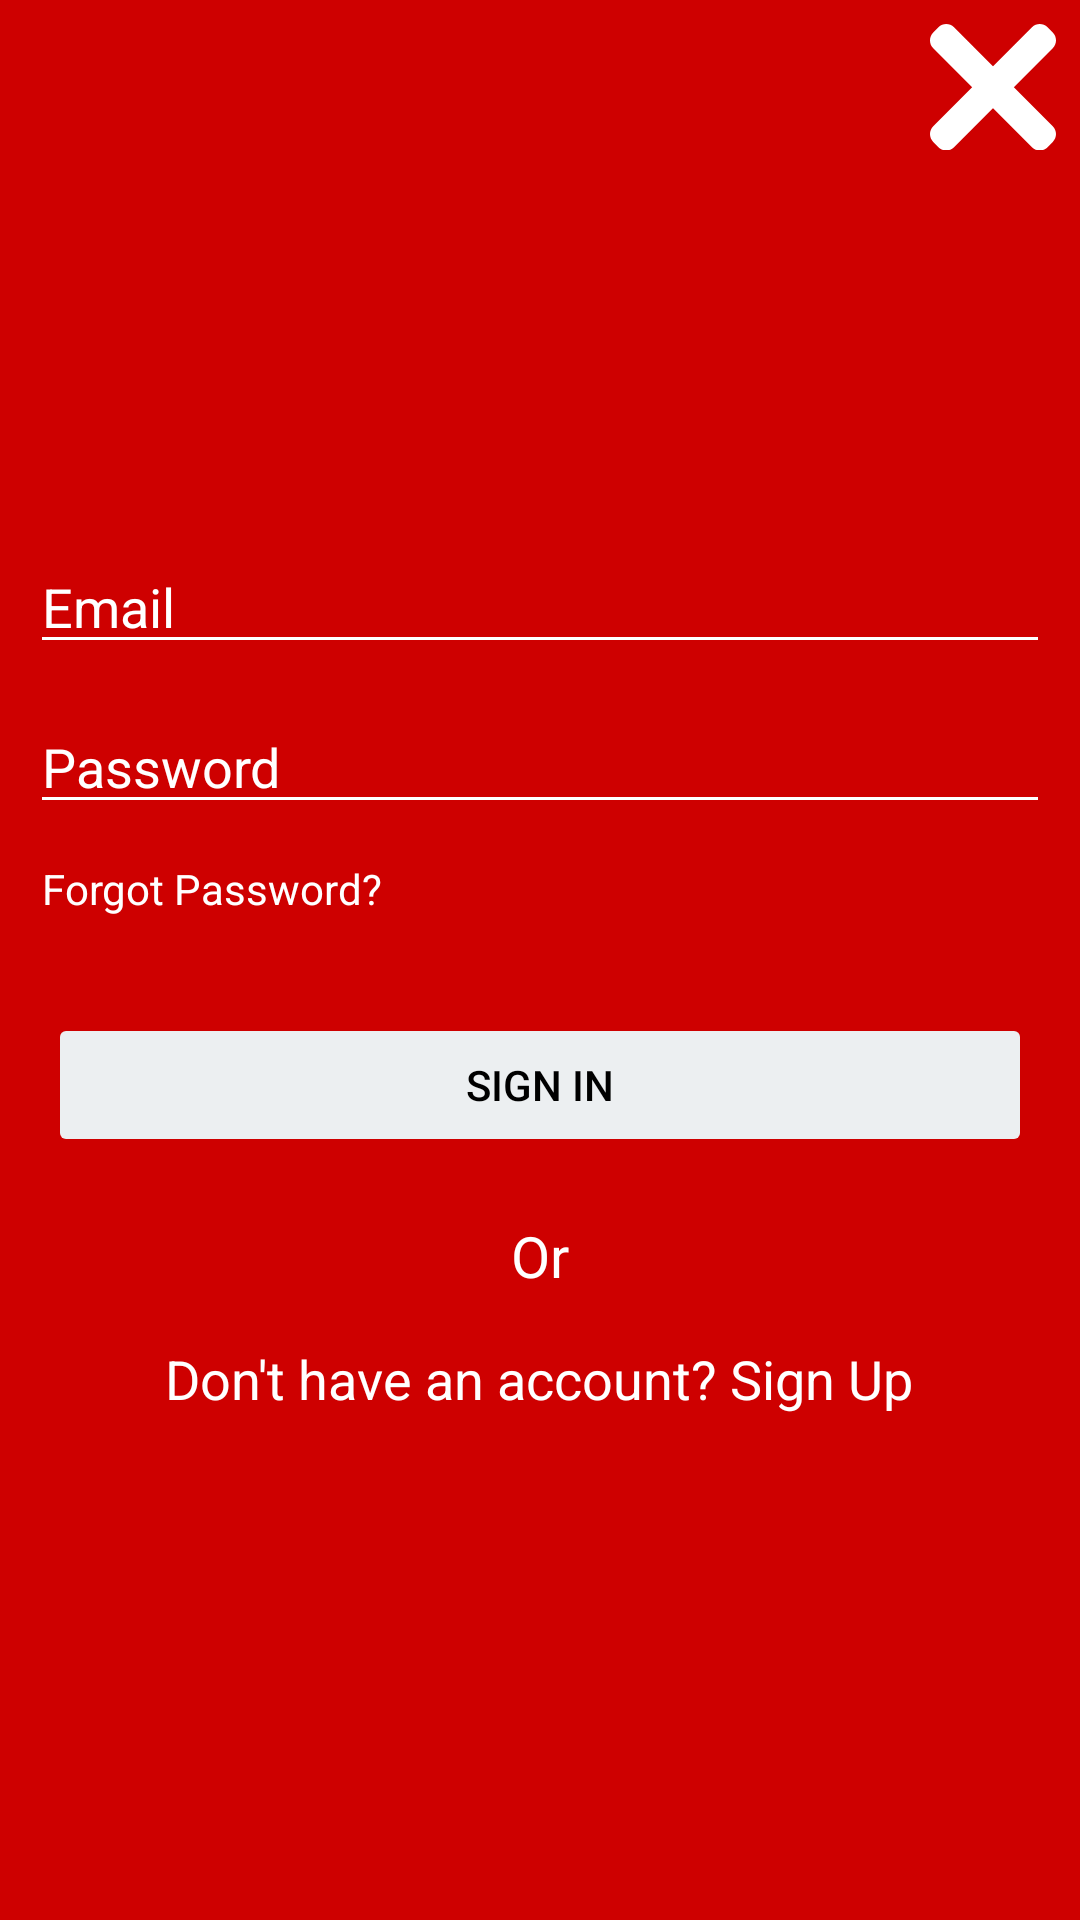

Icons on this 1080w x 1920h Android screen, each with the point to tap as point (x, y):
close: point (993, 87)
